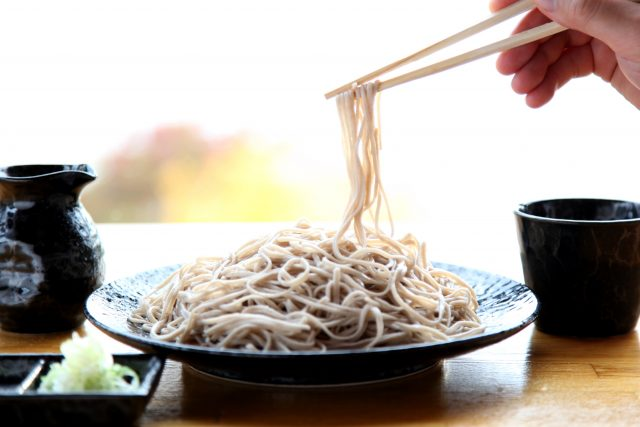Soba: (153, 230, 501, 366), (327, 84, 399, 239)
